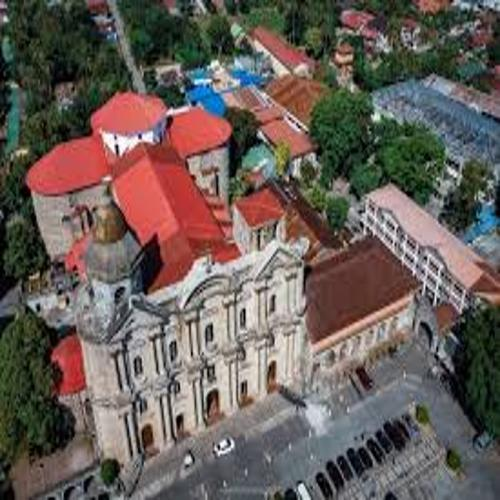Taal Basilica Church: (63, 163, 322, 460)
